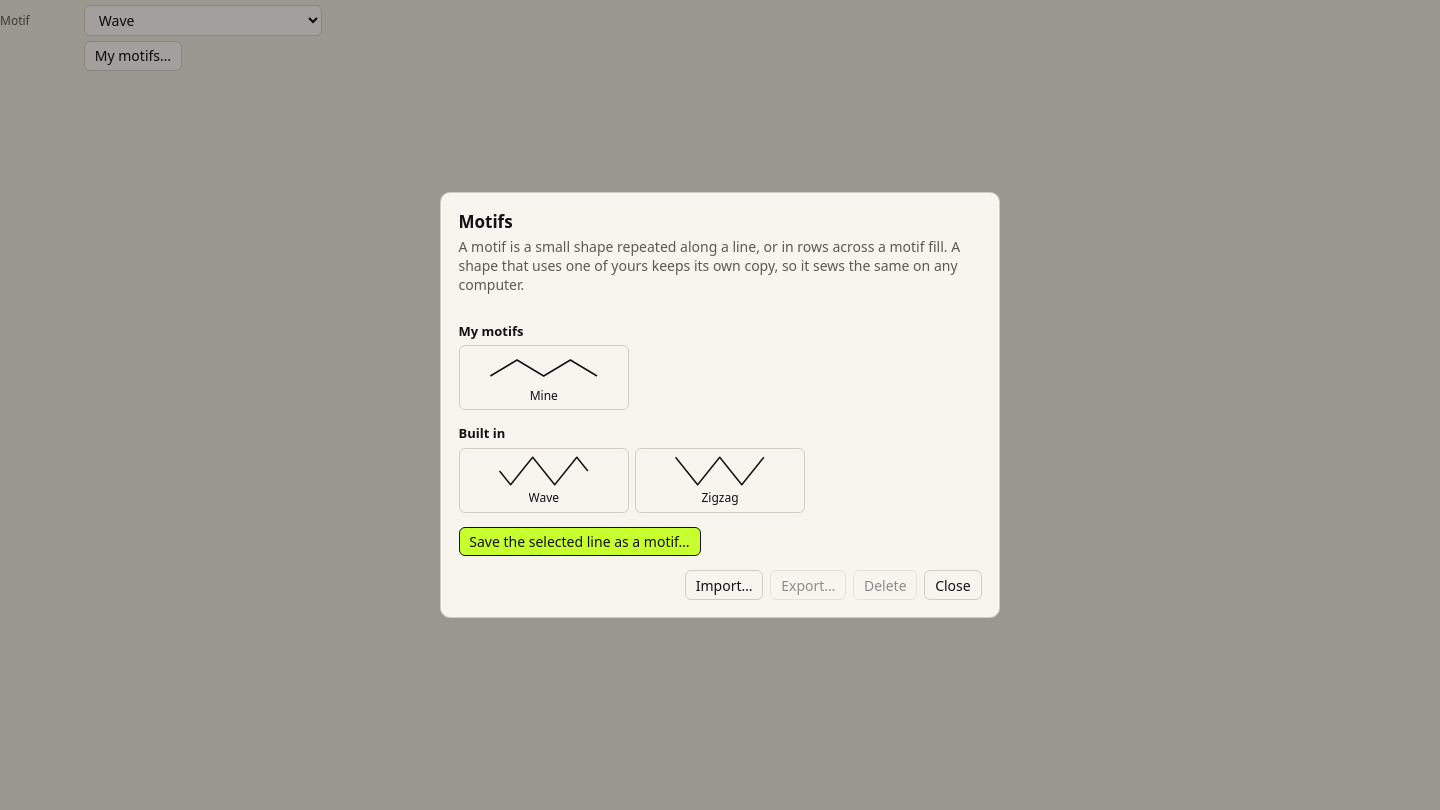
Test: the Motifs window › Esc takes away the name box or the question first, then the window, and nothing else
Click the button "Save the selected line as a motif…" at {"x": 580, "y": 542}, box [458,527,700,556]
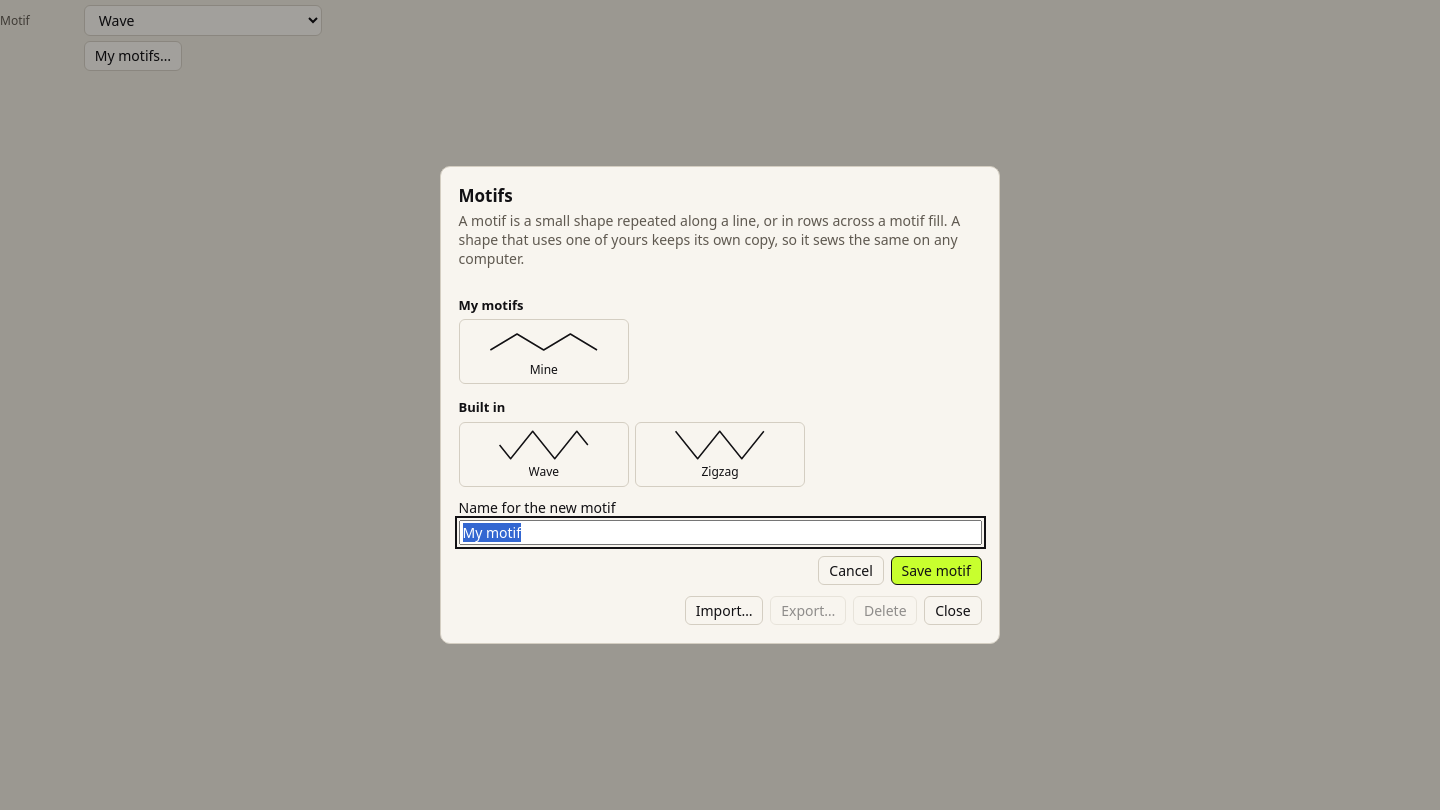
Press Escape in the field labelled "Name for the new motif", box [458,520,982,546]
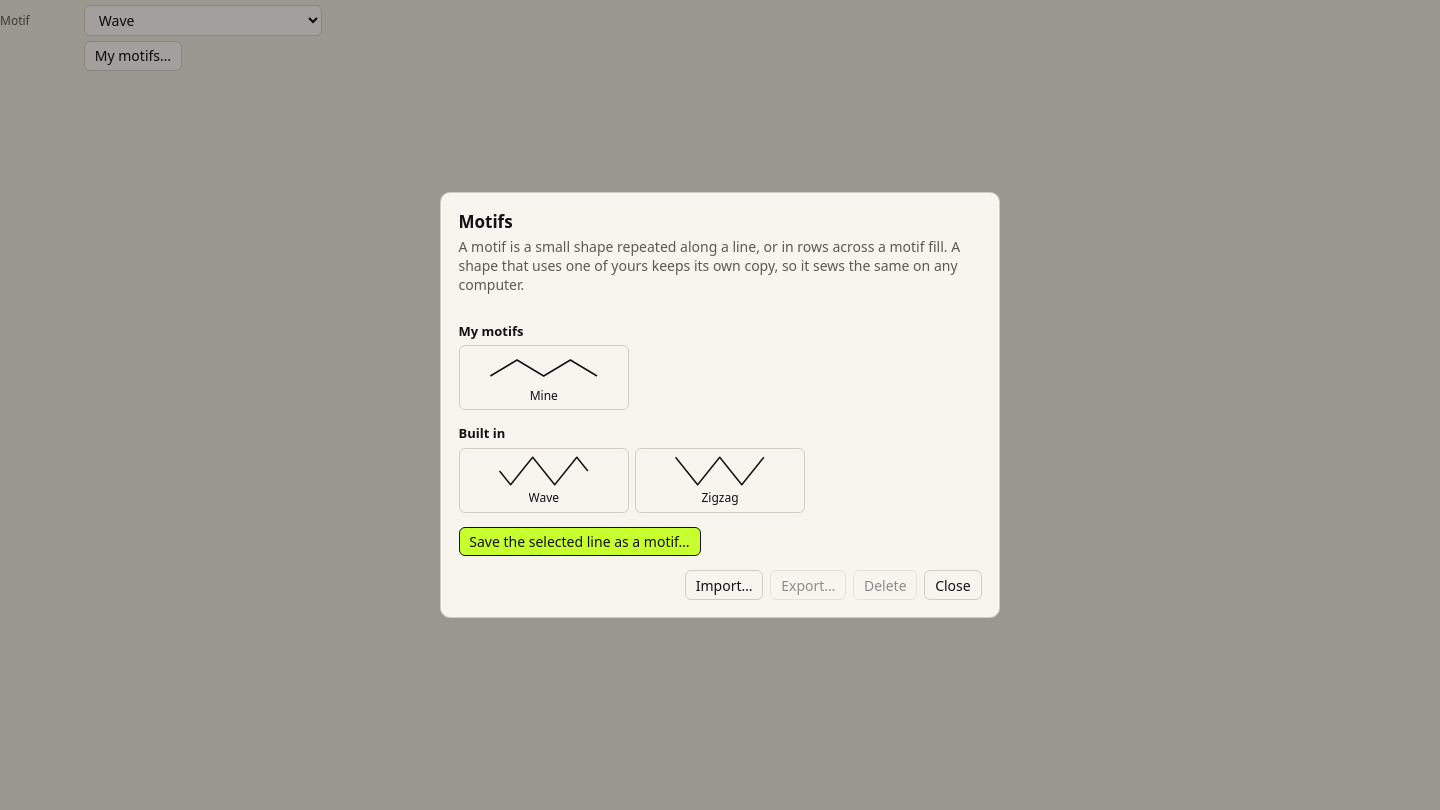
Now the field is gone
Click the button "Mine" at {"x": 544, "y": 378}, box [458,345,629,410]
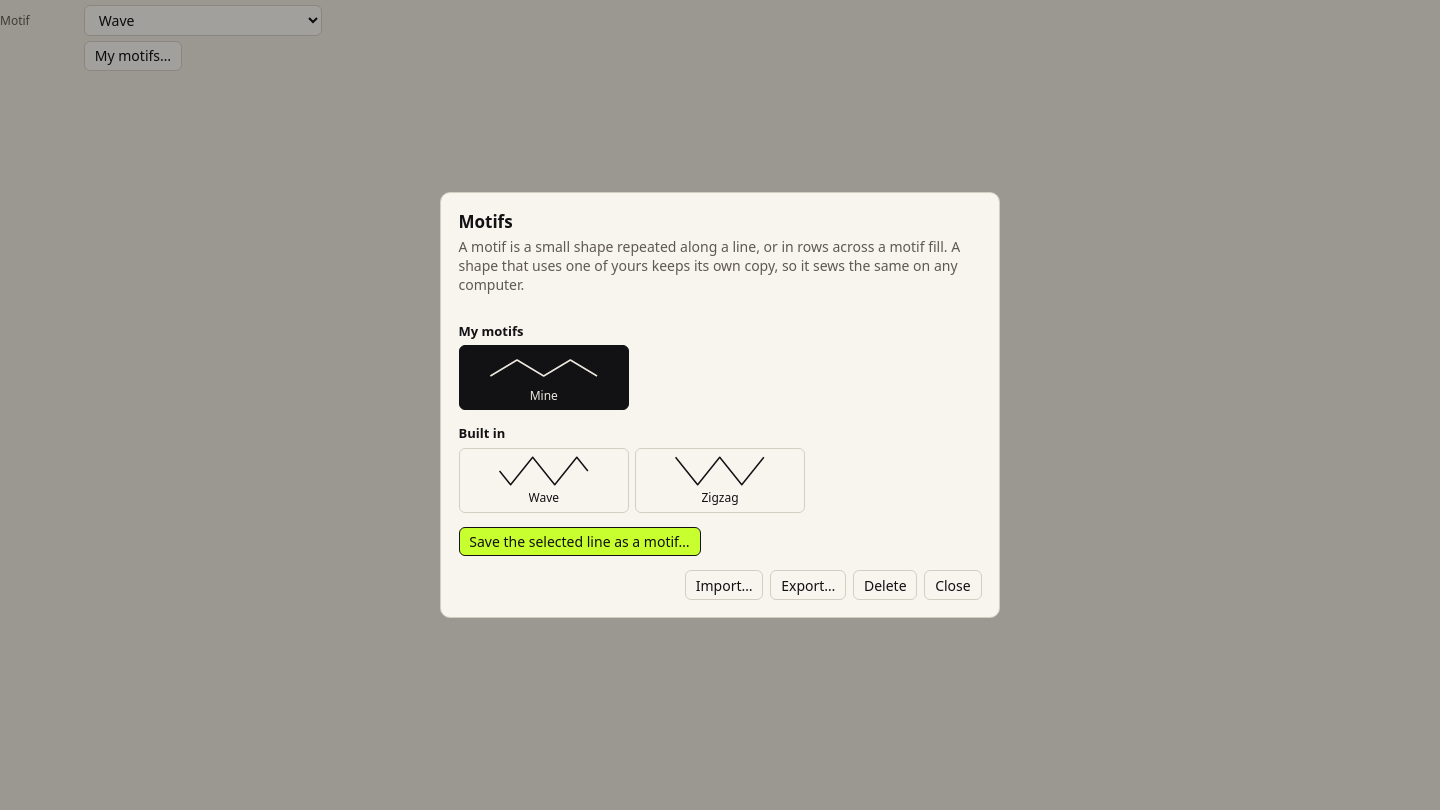
Click the button "Delete" at {"x": 885, "y": 585}, box [853,570,917,600]
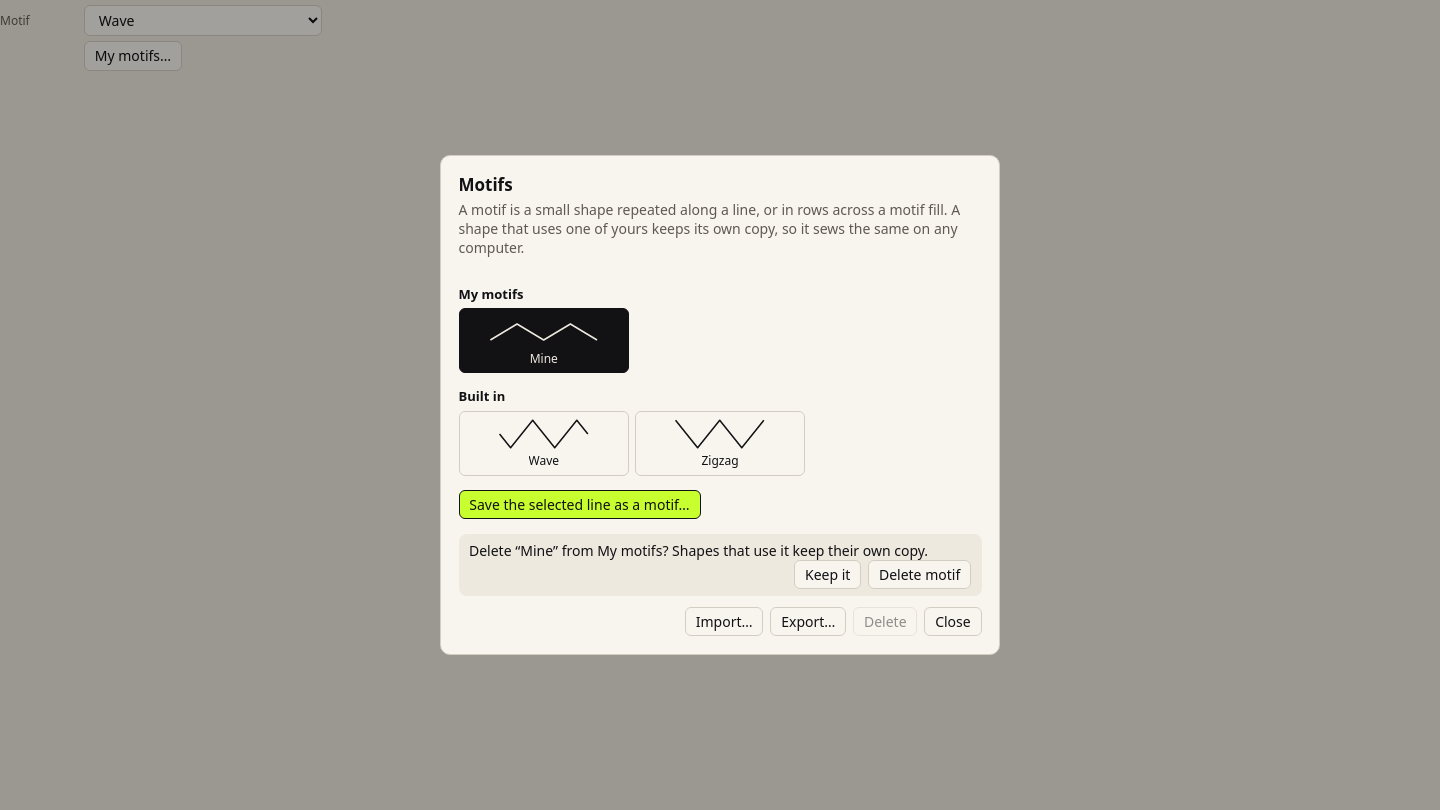
Press Escape in the button "Keep it", box [794,560,861,589]
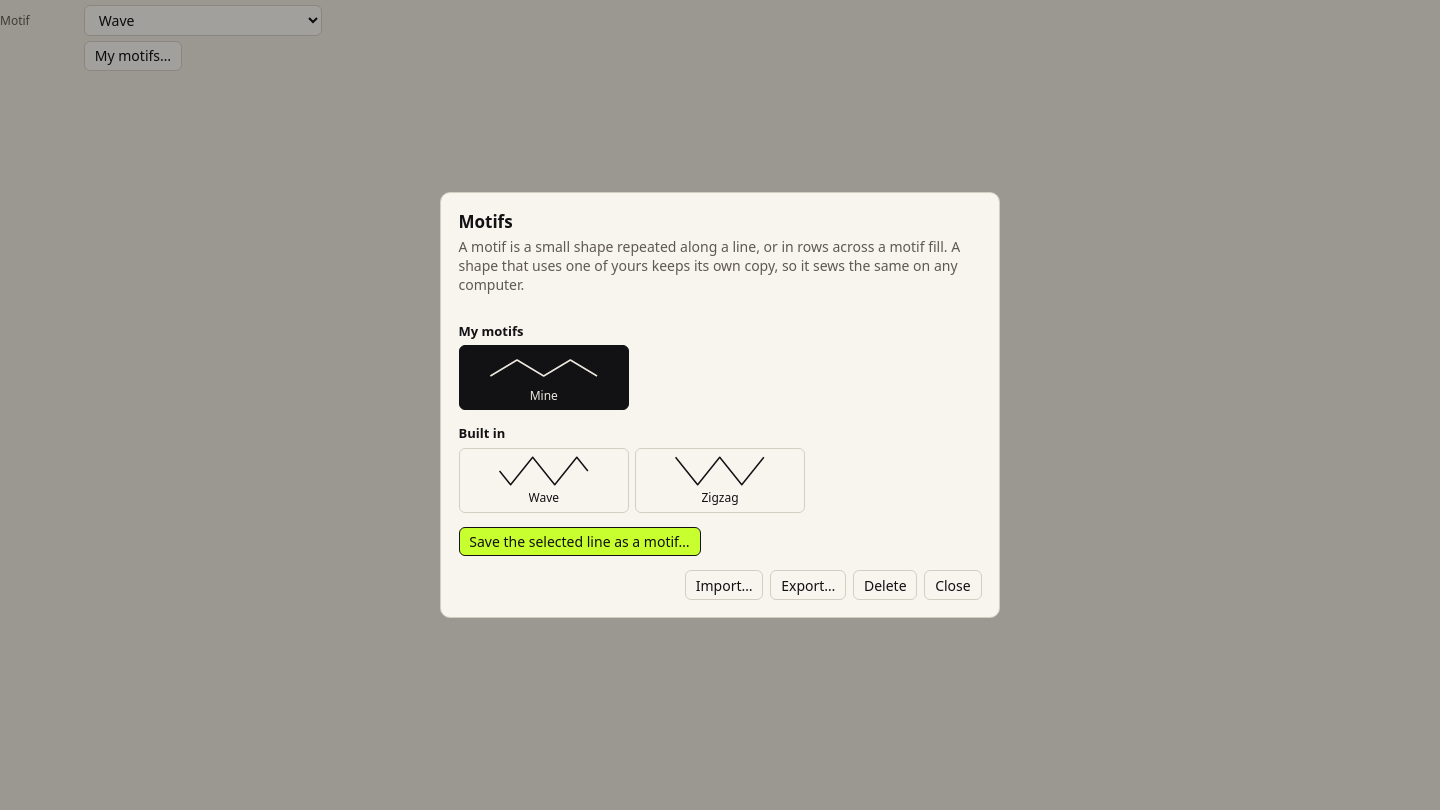
Now the dialog is gone
Press Escape in the button "Close", box [924,570,982,600]
Press Escape in the button "Close", box [924,570,982,600]
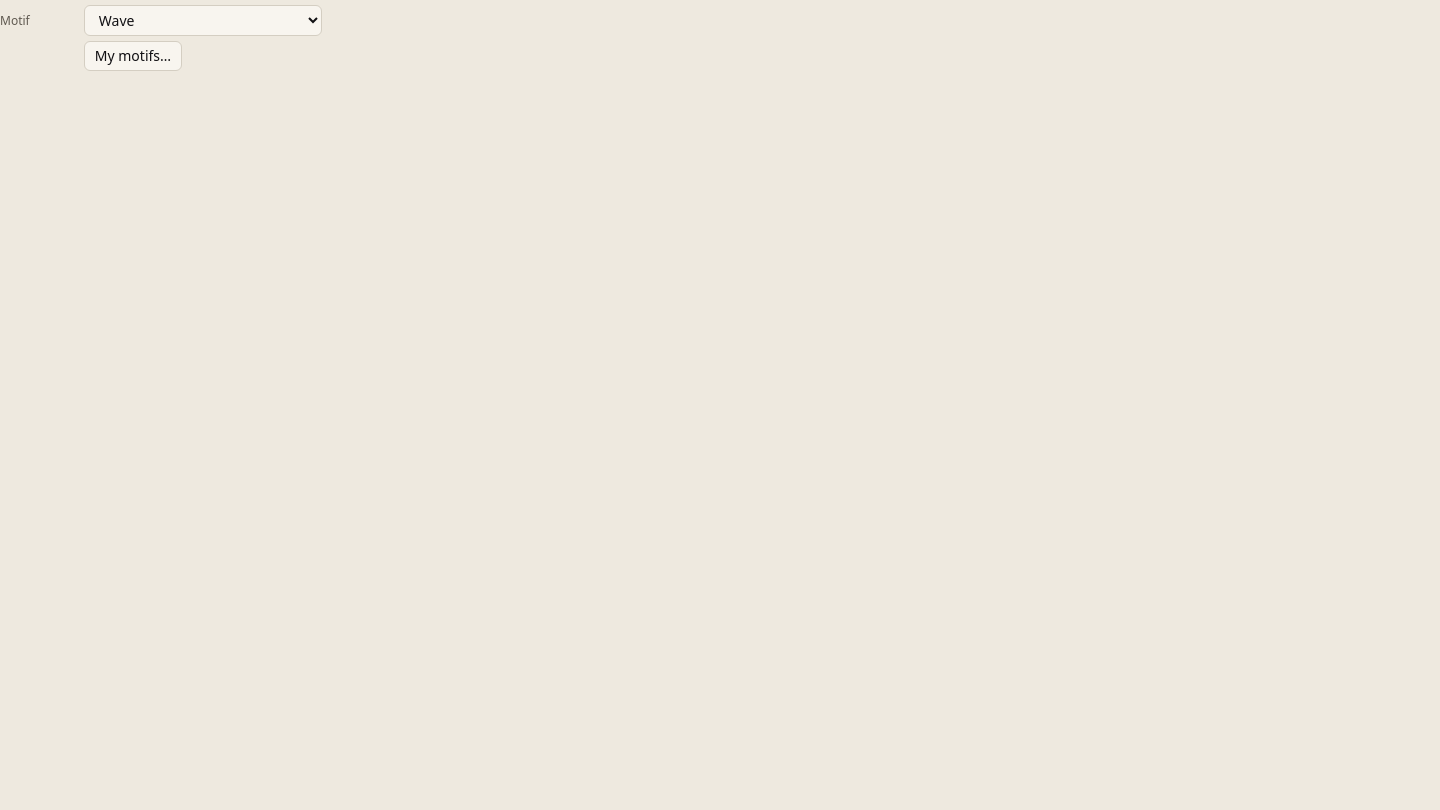
Now the dialog is gone
